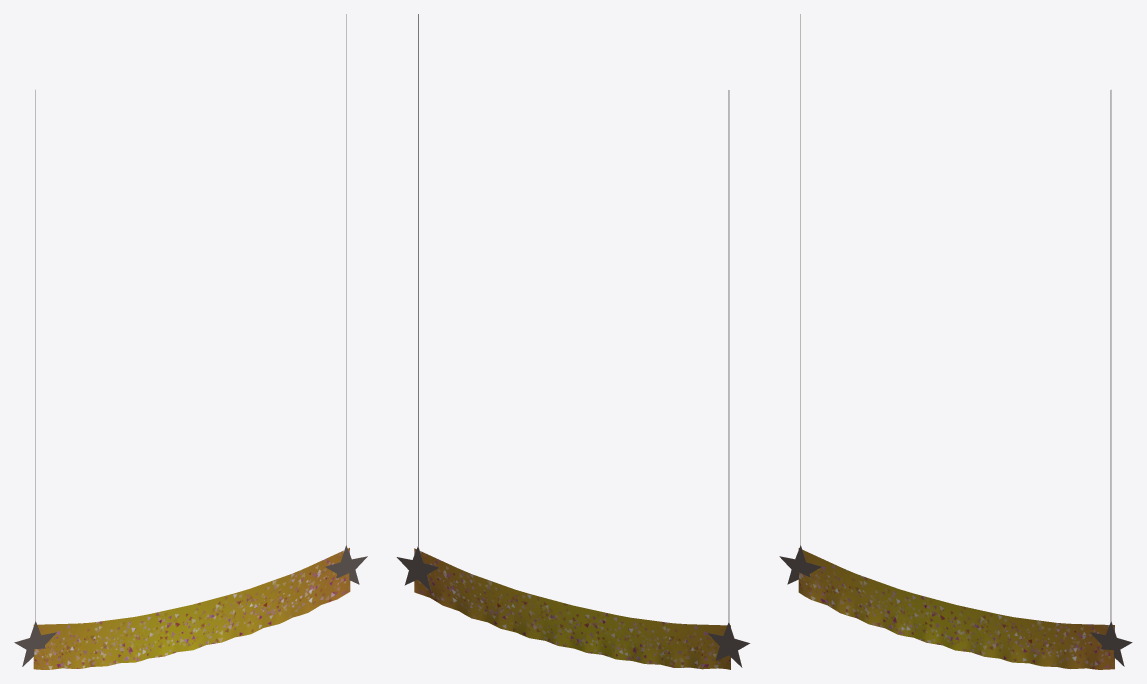
The model's file is ENV_MOD_Banner_Office_02_A_Birthday_04_mo.fbx.
3 renders of one model, left to right at view 1: azimuth 30°, elevation 25°; view 2: azimuth 150°, elevation 25°; view 3: azimuth 330°, elevation 25°, orthographic.
Parts seen in each view (by area): view 1: ENV_MOD_Banner_Office_02_A_Birthday_04.mo; view 2: ENV_MOD_Banner_Office_02_A_Birthday_04.mo; view 3: ENV_MOD_Banner_Office_02_A_Birthday_04.mo.
Boxes of the visible parts, <box> form: ENV_MOD_Banner_Office_02_A_Birthday_04.mo: <box>14,14,367,669</box>; ENV_MOD_Banner_Office_02_A_Birthday_04.mo: <box>396,14,750,669</box>; ENV_MOD_Banner_Office_02_A_Birthday_04.mo: <box>779,14,1132,669</box>.
Bounding box in the file's own units: 222 × 359 × 1.81.
